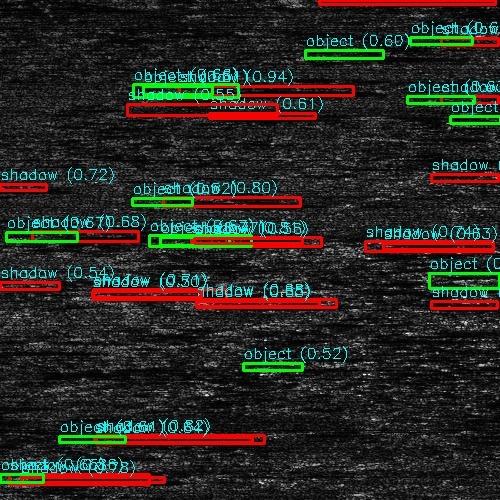rock: (147, 85, 210, 98), (83, 292, 176, 299), (441, 115, 500, 126), (0, 474, 52, 485), (0, 235, 63, 242), (61, 435, 144, 440), (179, 238, 232, 245), (135, 199, 188, 206), (153, 302, 226, 307), (304, 0, 335, 6)
shadow: (179, 85, 358, 98), (0, 474, 151, 485), (320, 0, 500, 6), (206, 238, 331, 245), (130, 292, 252, 299), (0, 179, 51, 192), (190, 302, 318, 307), (32, 235, 120, 242), (103, 435, 221, 440), (162, 199, 186, 206)
